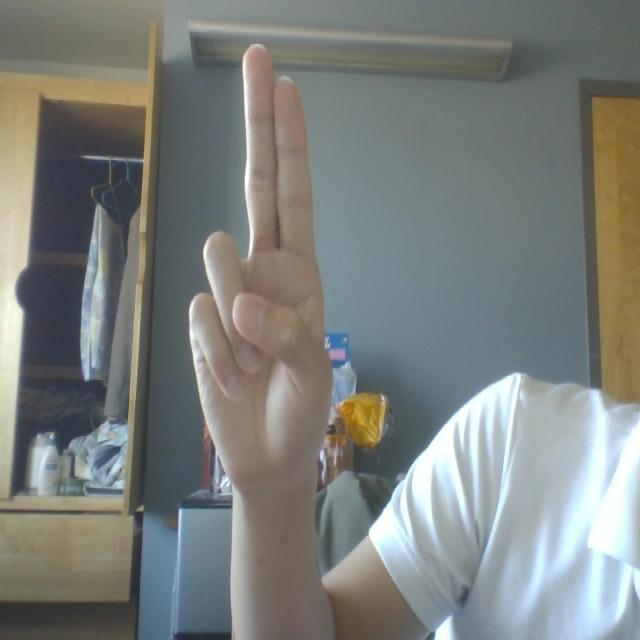U: (159, 38, 394, 518)
